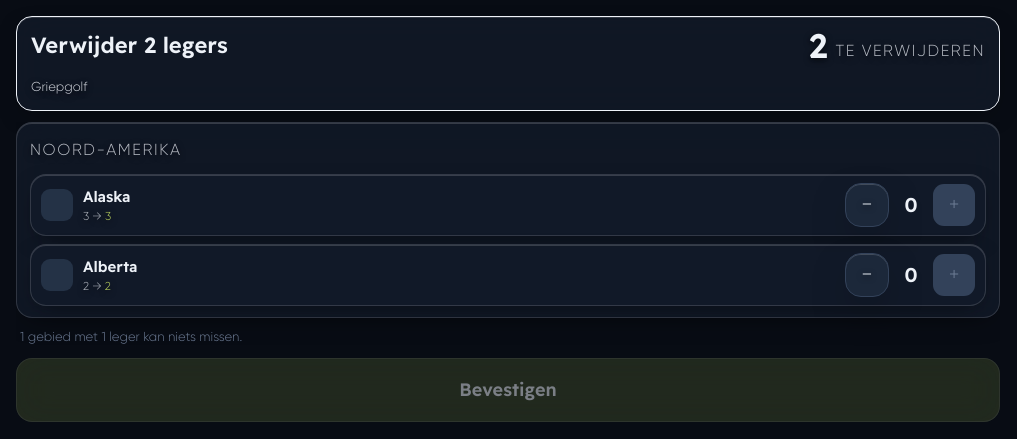
Test: RemoveArmiesStep › geeft de knoppen een toegankelijke naam met het gebied
This screenshot has width=1017, height=439.
What coordinates should you click on to do the following:
click the button named "Leger weghalen van Alaska"
I would click on:
 (867, 205)
Its box is [846,184,888,226].
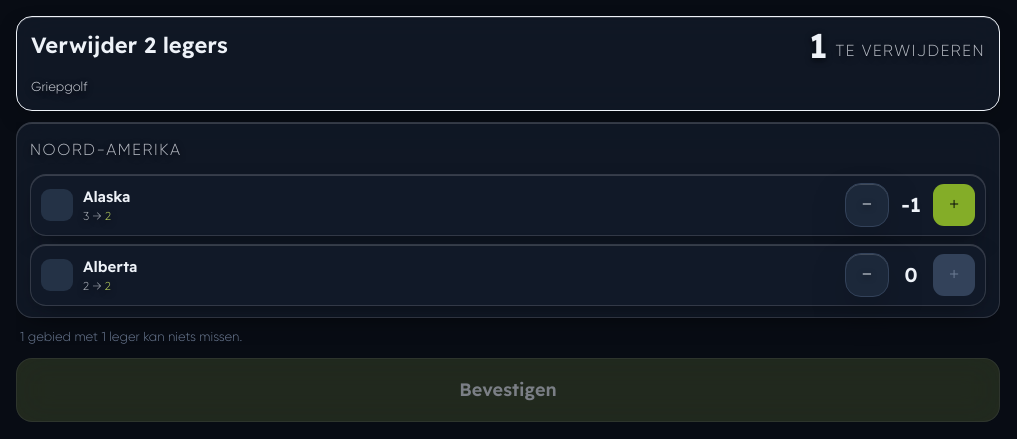
expect the button named "Leger terugzetten op Alaska" is enabled: met, box [933,184,975,226]
